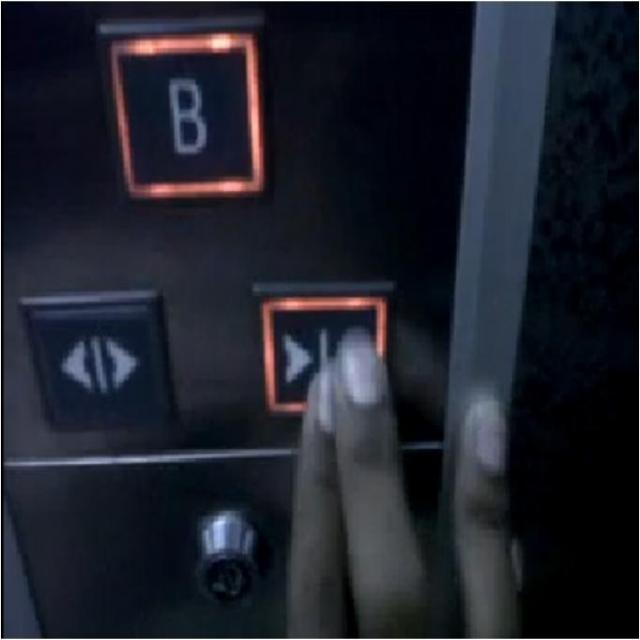B: (88, 12, 275, 212)
keyhole: (188, 505, 264, 611)
open: (14, 280, 178, 432)
